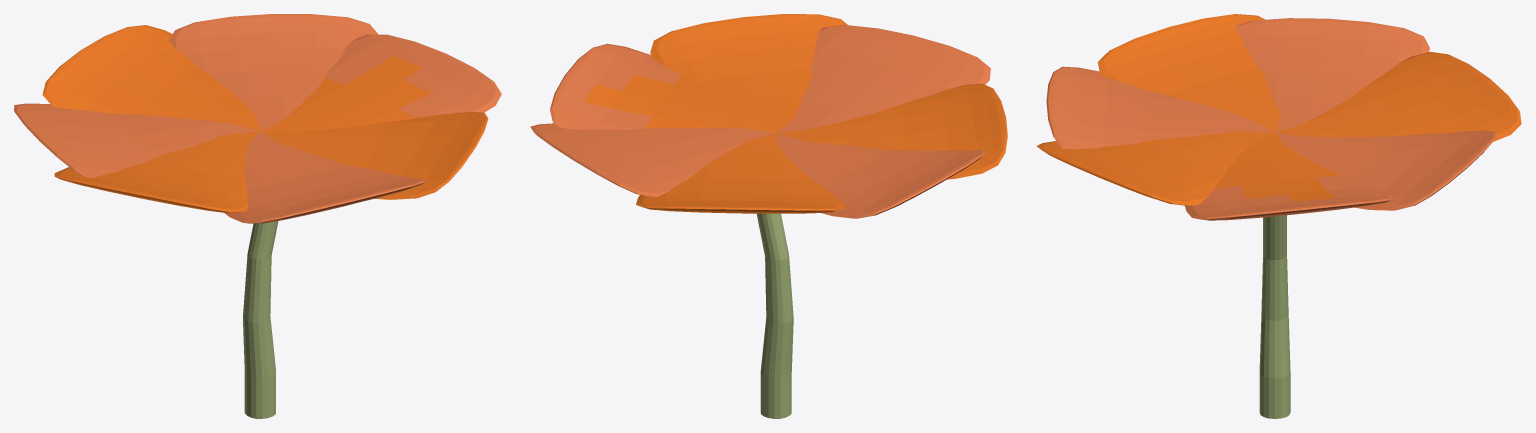
The model's file is orange flower.fbx.
3 renders of one model, left to right at view 1: azimuth 30°, elevation 25°; view 2: azimuth 150°, elevation 25°; view 3: azimuth 270°, elevation 25°, orthographic.
Visible parts, largest first — view 1: Cube.006, Cube.007, Cube.002, Cube.004, Cube.003, Cube, Cube.001, Cube.005; view 2: Cube, Cube.004, Cube.006, Cube.001, Cube.007, Cube.003, Cube.002, Cube.005; view 3: Cube.003, Cube.002, Cube.001, Cube, Cube.007, Cube.006, Cube.004, Cube.005.
Boxes of the visible parts, x1,y1,x2,y2 form: Cube.006: (261, 34, 501, 131); Cube.007: (169, 14, 378, 131); Cube.002: (42, 25, 259, 131); Cube.004: (261, 112, 488, 199); Cube.003: (14, 103, 259, 177); Cube: (224, 131, 426, 223); Cube.001: (54, 131, 259, 212); Cube.005: (243, 221, 278, 418); Cube: (776, 25, 990, 132); Cube.004: (650, 14, 847, 132); Cube.006: (550, 43, 775, 132); Cube.001: (777, 83, 1007, 179); Cube.007: (530, 123, 775, 197); Cube.003: (776, 133, 985, 218); Cube.002: (636, 133, 846, 213); Cube.005: (756, 213, 793, 418); Cube.003: (1235, 18, 1429, 132); Cube.002: (1275, 51, 1521, 141); Cube.001: (1097, 14, 1280, 132); Cube: (1046, 66, 1274, 149); Cube.007: (1275, 130, 1496, 210); Cube.006: (1185, 133, 1394, 220); Cube.004: (1036, 131, 1273, 205); Cube.005: (1259, 215, 1290, 418).
Size of the model in its own units: 250 by 170 by 249.
